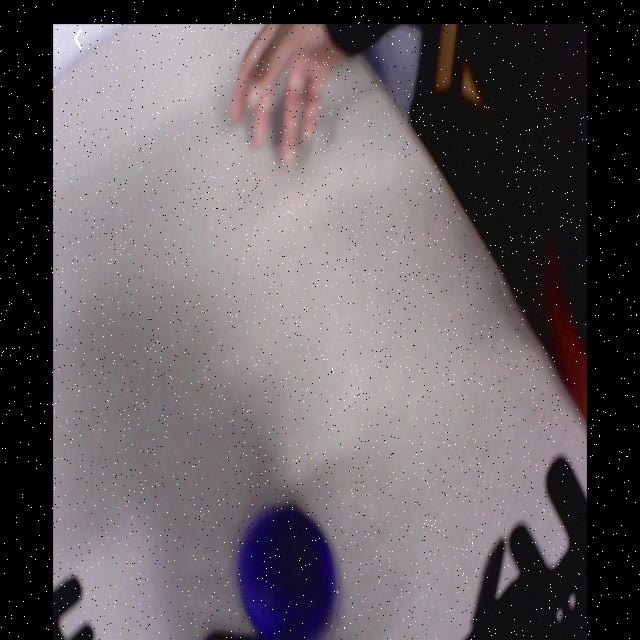ball: (239, 502, 338, 640)
